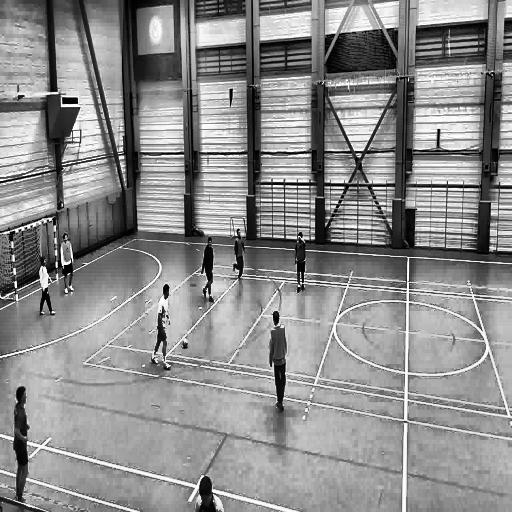ball: (182, 337, 189, 350)
player: (268, 310, 288, 414), (12, 385, 29, 503), (151, 282, 172, 376), (200, 236, 216, 306), (38, 256, 56, 316), (60, 233, 76, 297), (233, 227, 247, 283), (294, 232, 306, 295)
